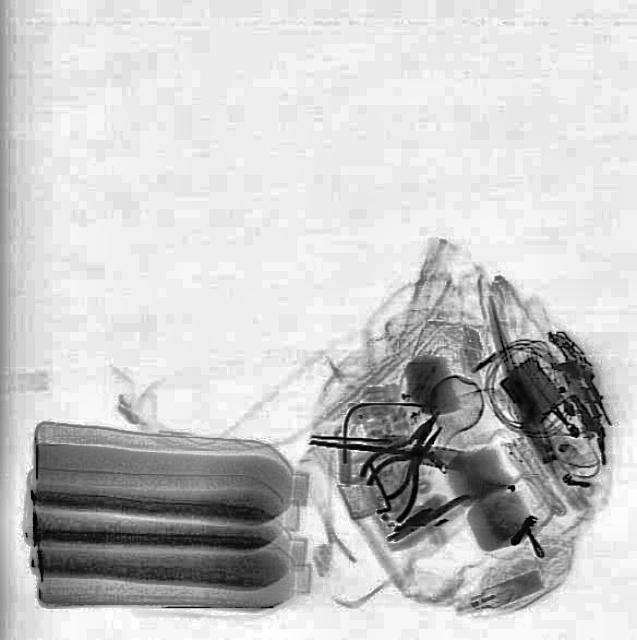Pliers: (354, 411, 464, 521), (352, 397, 456, 501)
